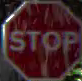Stop: (1, 2, 81, 80)
